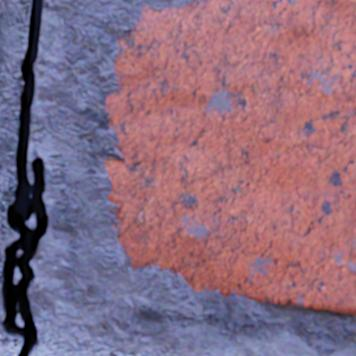brick: (103, 0, 355, 314)
crack: (0, 0, 49, 355)
